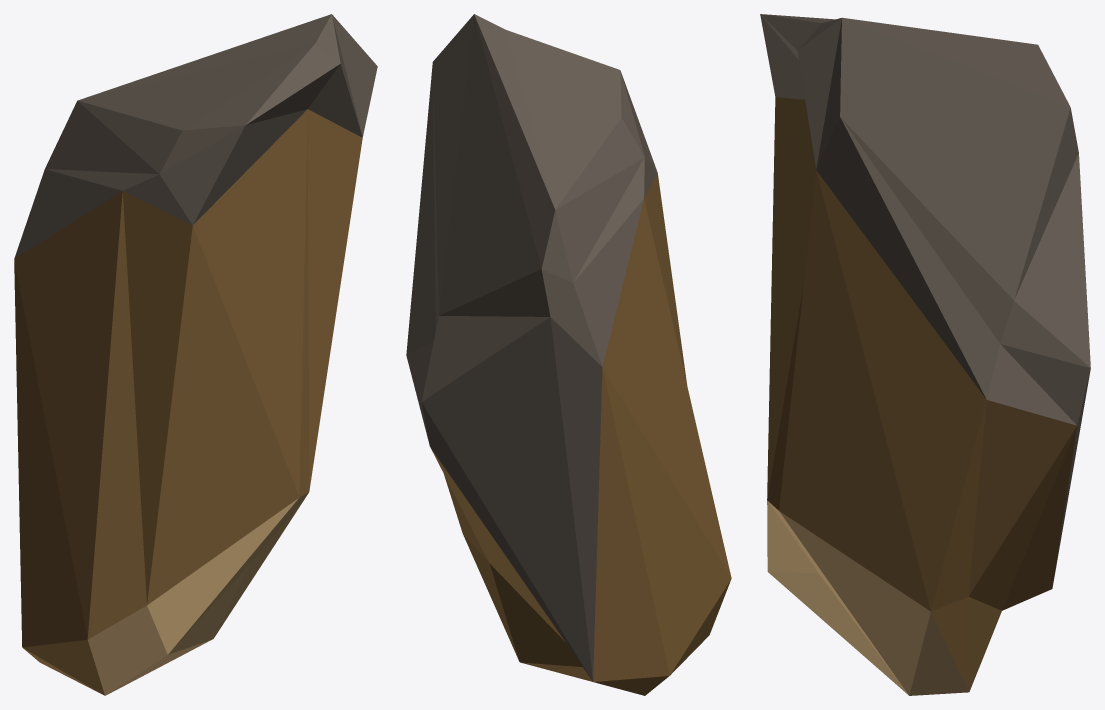
File: rockTall.fbx
3 renders of one model, left to right at view 1: azimuth 30°, elevation 25°; view 2: azimuth 150°, elevation 25°; view 3: azimuth 270°, elevation 25°, orthographic. The views are drawn at different scales.
Parts seen in each view (by area): view 1: rockA; view 2: rockA; view 3: rockA.
Boxes of the visible parts, x1,y1,x2,y2 form: rockA: (14,14,377,695); rockA: (406,14,731,695); rockA: (760,14,1090,695).
Size of the model in its own units: 975 by 1928 by 784.
